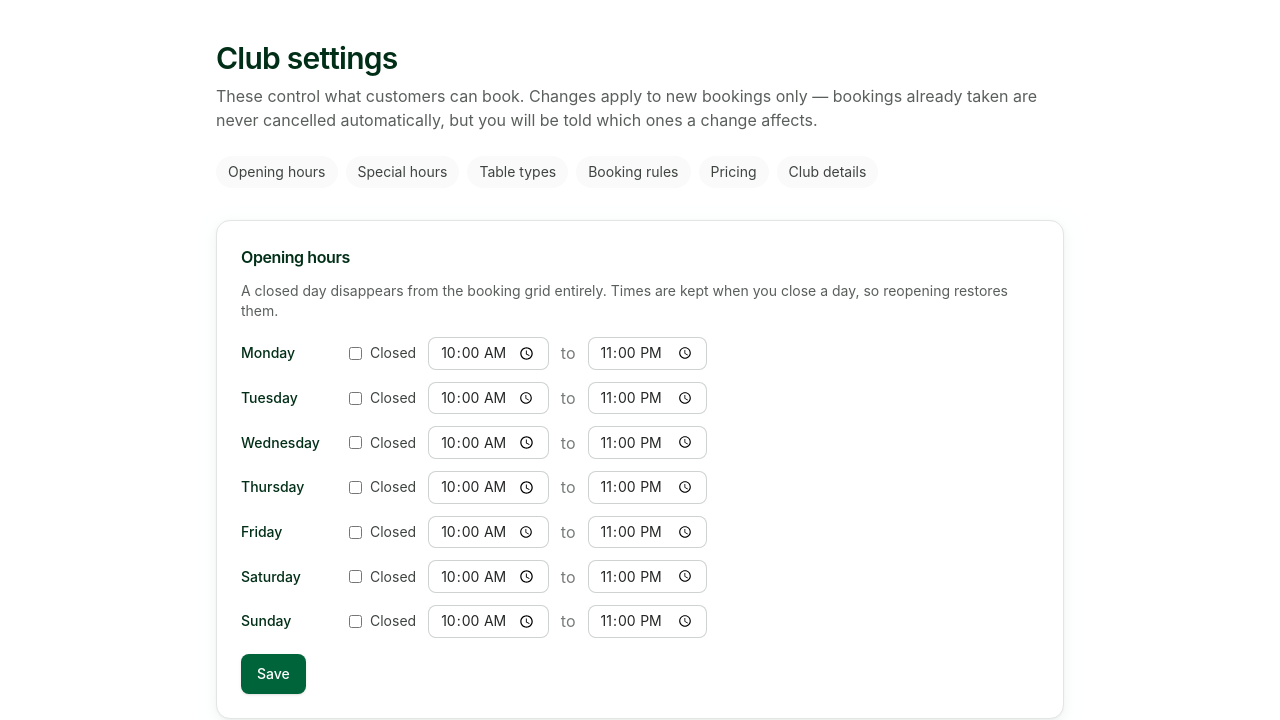
Scenario: AdminSettingsPage › confirms a clean save, which previously produced no feedback at all
Expected: the time field named "Monday opening time" is shown, [428,337,549,370]
Click the checkbox named "Monday closed": (356, 353) [349,347,362,360]
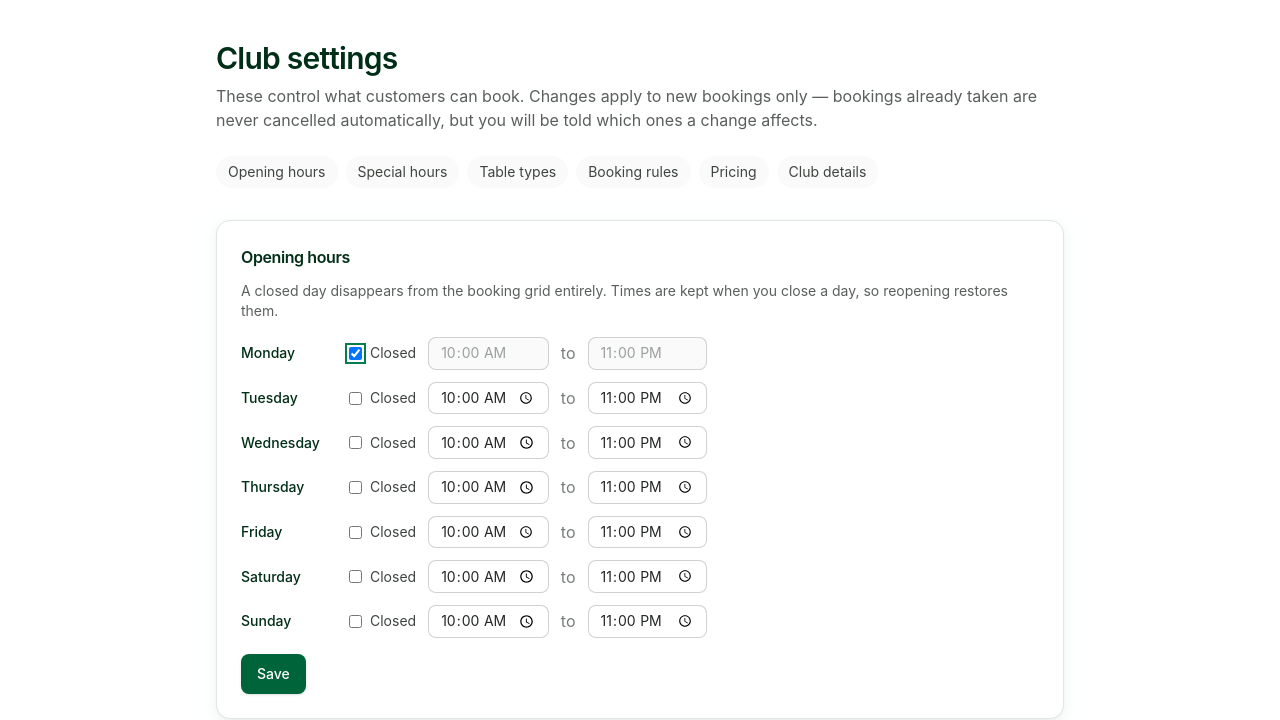
Click the button "Save": (273, 674) [241,654,306,694]
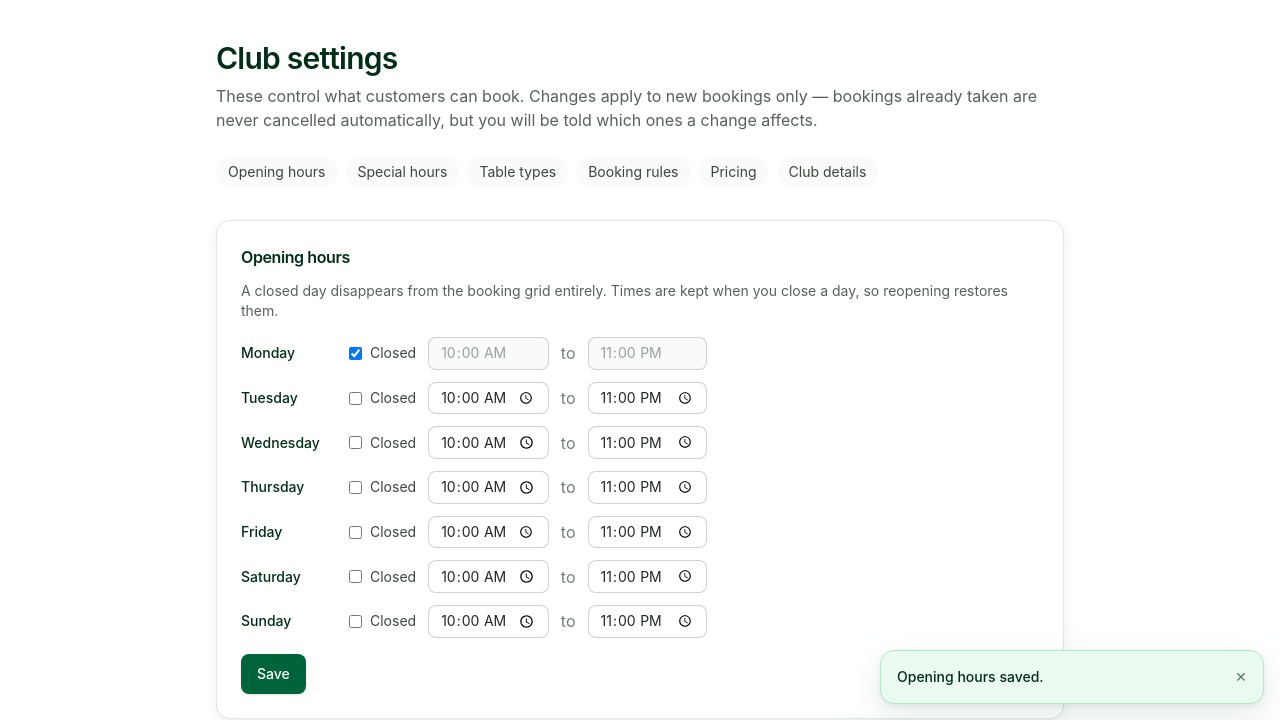
Expected: the message shows "Opening hours saved", [897,668,1044,685]
